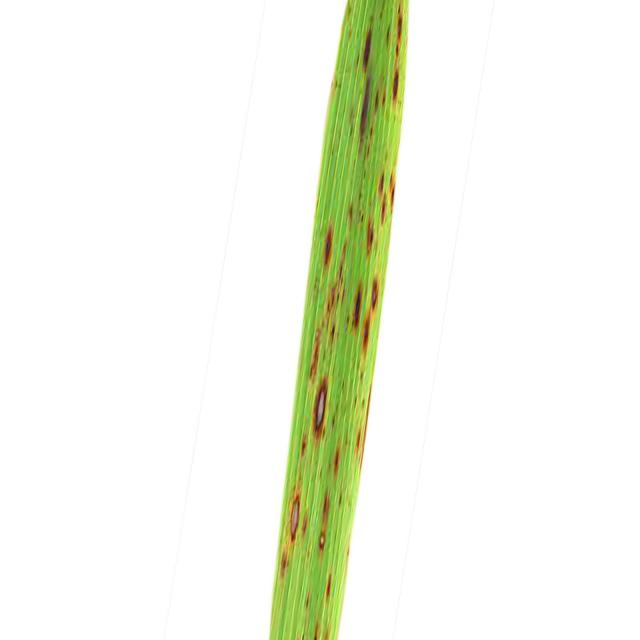Brown_Spot: (314, 385, 328, 432), (309, 330, 321, 378), (361, 320, 379, 349), (319, 498, 329, 550), (321, 224, 332, 267), (291, 496, 300, 539), (362, 30, 371, 69), (360, 96, 369, 134), (376, 85, 389, 109), (354, 286, 361, 328), (395, 21, 404, 50), (391, 70, 400, 98), (371, 275, 379, 306), (366, 220, 374, 250), (374, 169, 385, 190), (280, 550, 288, 575), (380, 199, 389, 220), (334, 448, 341, 471), (390, 178, 395, 209), (301, 514, 308, 536), (325, 575, 331, 596), (300, 436, 306, 456)
